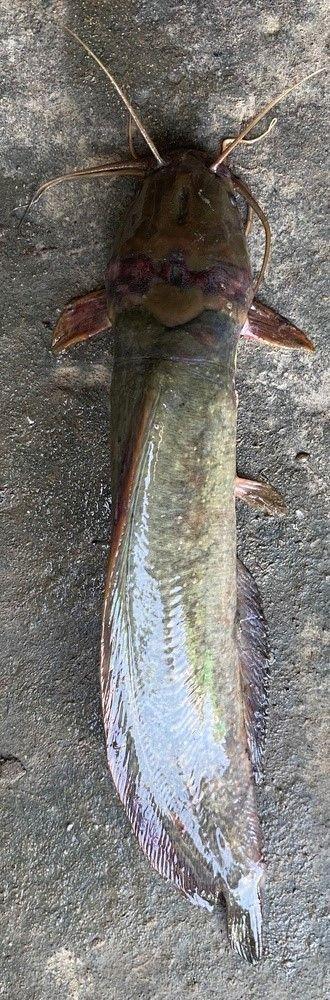Catfish: (56, 57, 300, 962)
